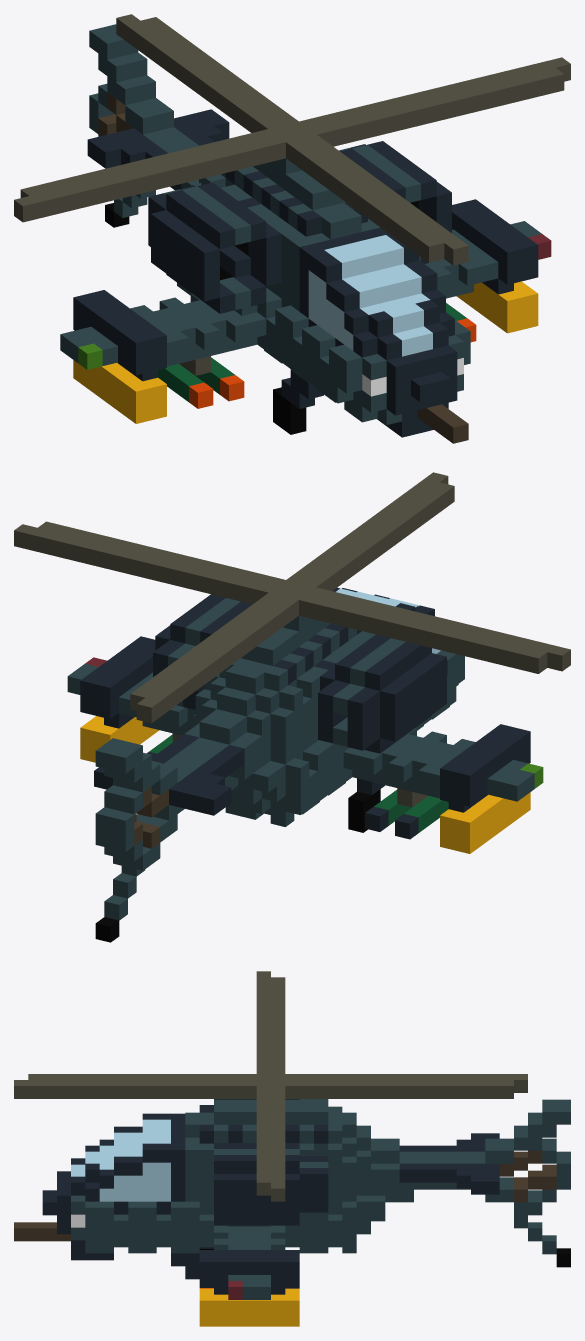
File: heli_modern.obj
3 views of the same model, one above another, from view 1: azimuth 30°, elevation 25°; view 2: azimuth 150°, elevation 25°; view 3: azimuth 270°, elevation 25° (orthographic). The views are drawn at different scales.
Bounding box in the file's own units: 3.6 × 1.6 × 3.9.
Materials: 1 (1 with a texture image).
